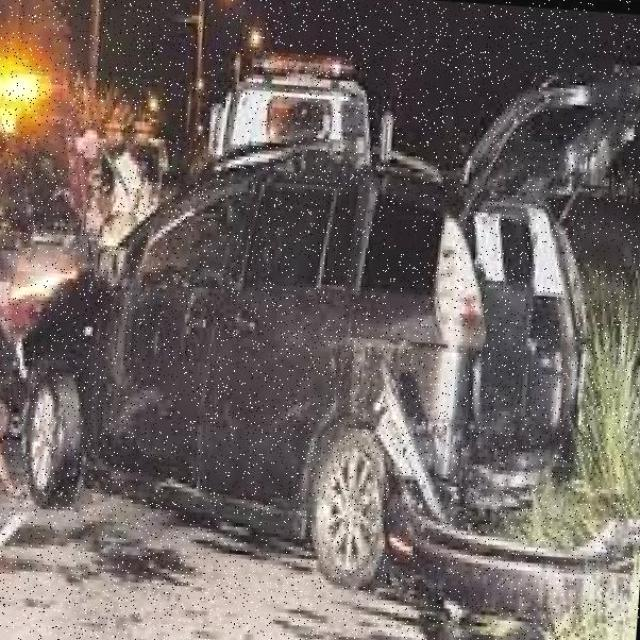accident: (0, 74, 623, 626)
